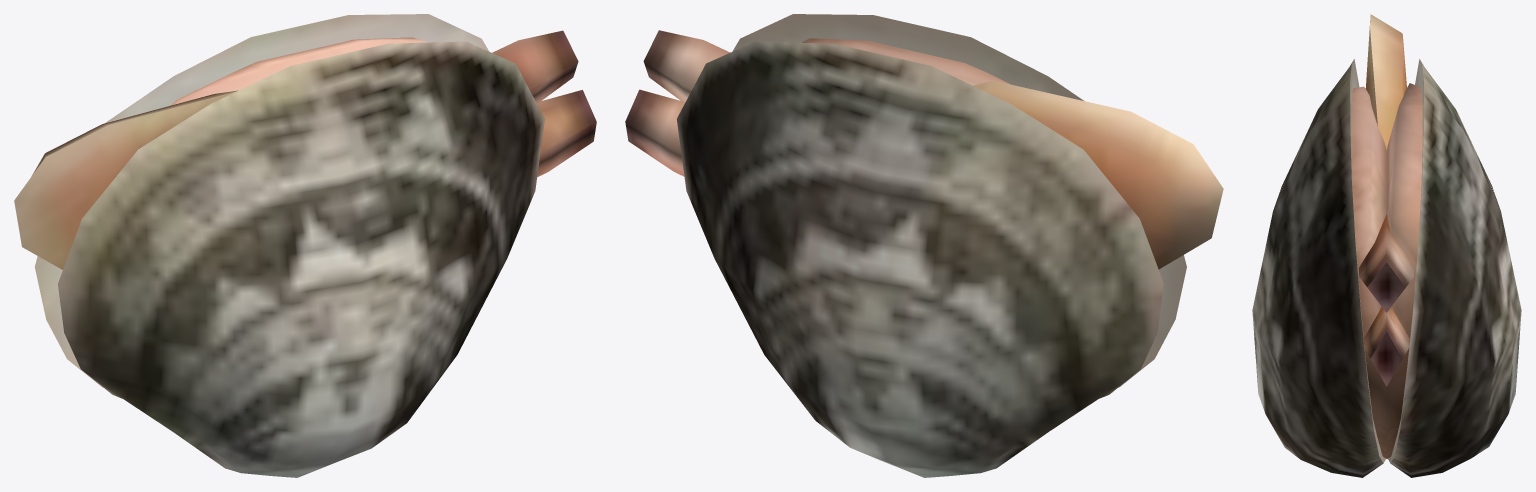
The model's file is shell-asari.glb.
3 views of the same model, side by side, from view 1: azimuth 30°, elevation 25°; view 2: azimuth 150°, elevation 25°; view 3: azimuth 270°, elevation 25° (orthographic). The views are drawn at different scales.
Visible parts, largest first — view 1: ShellfishAsari_node5; view 2: ShellfishAsari_node5; view 3: ShellfishAsari_node5.
Boxes of the visible parts, bbox=[...] form: ShellfishAsari_node5: bbox=[14, 14, 596, 477]; ShellfishAsari_node5: bbox=[625, 14, 1223, 477]; ShellfishAsari_node5: bbox=[1252, 14, 1521, 477].
Bounding box in the file's own units: 0.2318 × 0.155 × 0.0982.
Materials: 1 (1 with a texture image).
